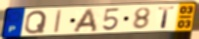5: (102, 7, 121, 32)
8: (132, 7, 152, 30)
A: (71, 8, 99, 33)
I: (53, 8, 63, 34)
Q: (23, 9, 49, 35)
T: (157, 6, 177, 29)
